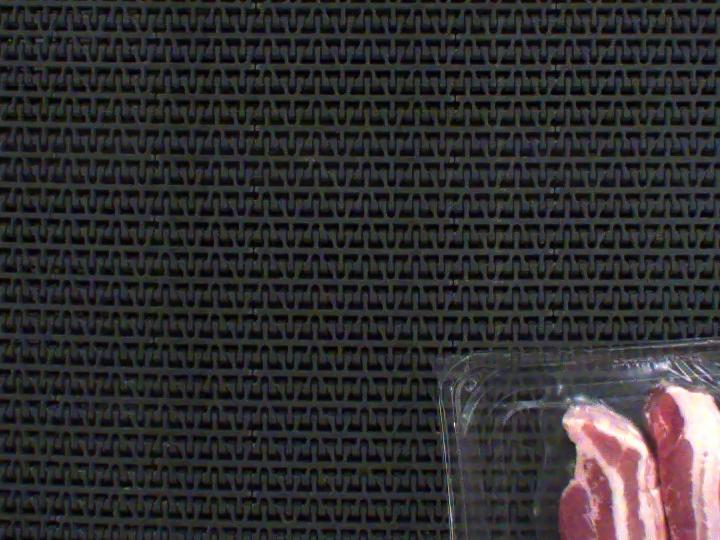unsealed: (520, 322, 720, 540)
